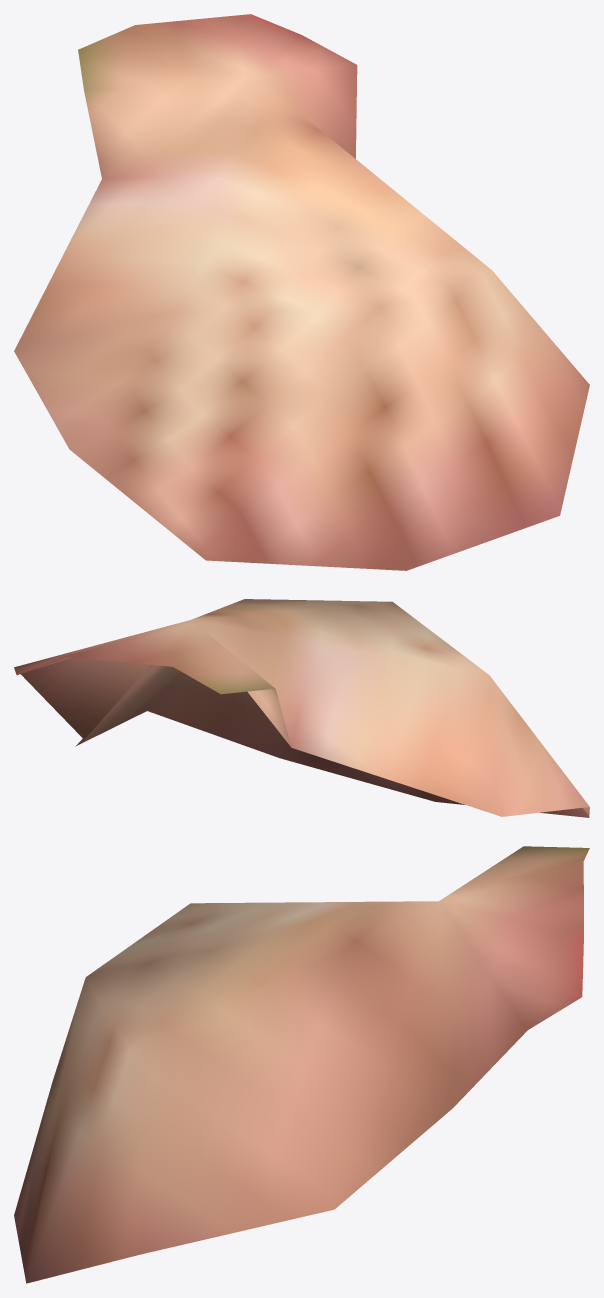
File: fg_bivalve_out.dae
3 renders of one model, top to bottom at view 1: azimuth 30°, elevation 25°; view 2: azimuth 150°, elevation 25°; view 3: azimuth 270°, elevation 25°, orthographic. The views are drawn at different scales.
Parts seen in each view (by area): view 1: fg_bivalve_out; view 2: fg_bivalve_out; view 3: fg_bivalve_out.
Boxes of the visible parts, bbox=[...] form: fg_bivalve_out: bbox=[14, 14, 589, 570]; fg_bivalve_out: bbox=[14, 599, 589, 817]; fg_bivalve_out: bbox=[14, 846, 589, 1283].
Bounding box in the file's own units: 11.5 × 7.63 × 11.19.
Materials: 1 (1 with a texture image).
